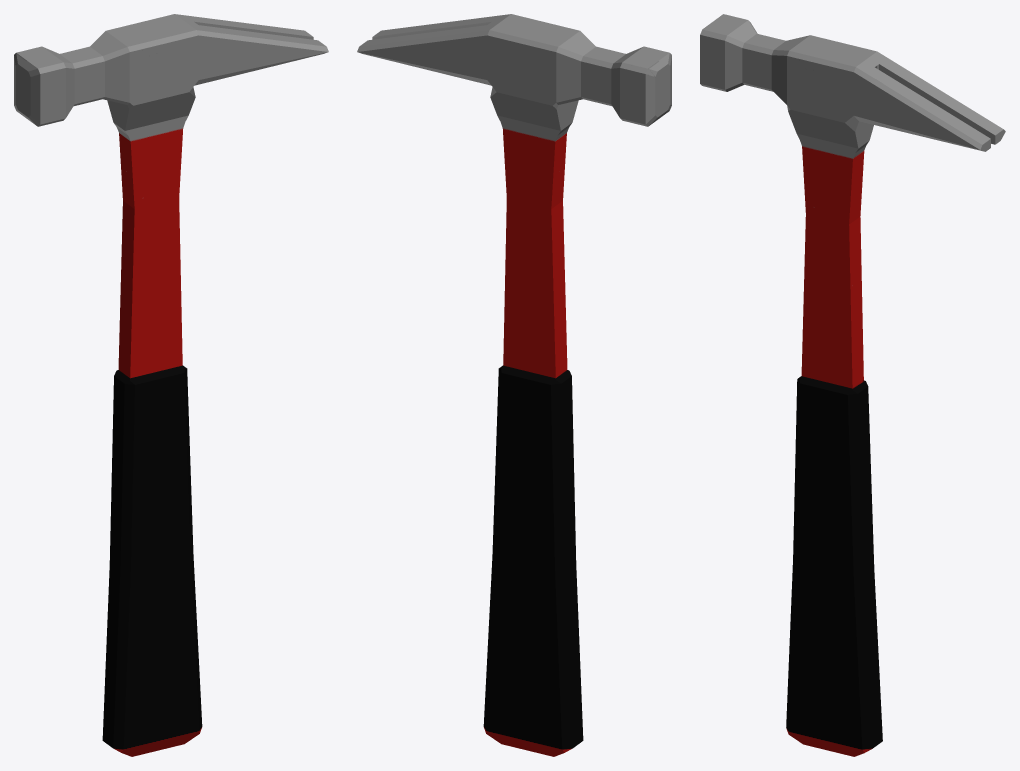
File: Hammer.fbx
3 views of the same model, side by side, from view 1: azimuth 30°, elevation 25°; view 2: azimuth 150°, elevation 25°; view 3: azimuth 330°, elevation 25° (orthographic). The views are drawn at different scales.
Parts seen in each view (by area): view 1: Plane; view 2: Plane; view 3: Plane.
Part boxes in pixels (bbox=[...]): Plane: bbox=[14, 14, 328, 756]; Plane: bbox=[357, 14, 671, 756]; Plane: bbox=[700, 14, 1005, 756].
Size of the model in its own units: 32.71 by 211 by 493.
Materials: 1 (1 with a texture image).
